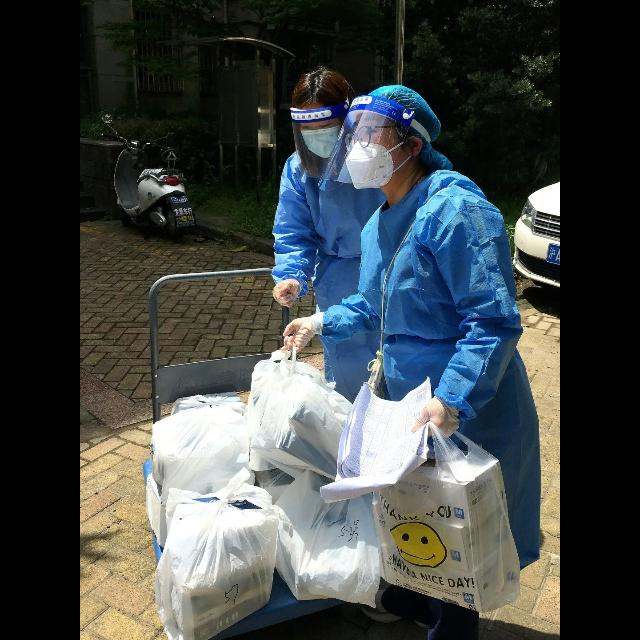masks: (351, 144, 392, 192), (301, 128, 345, 162)
